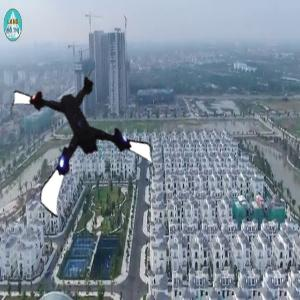drone: (18, 71, 157, 210)
